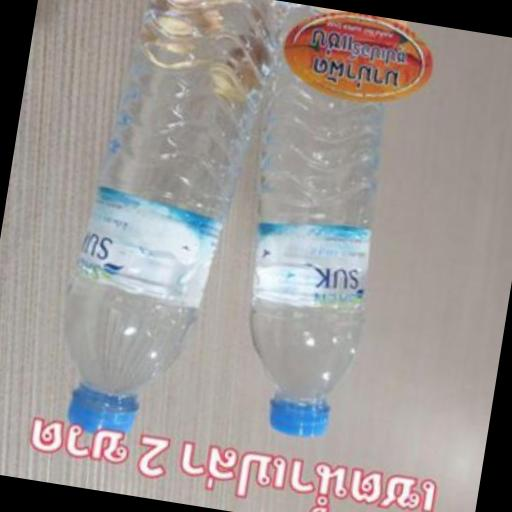Coca: (33, 0, 286, 462), (198, 0, 421, 451)
